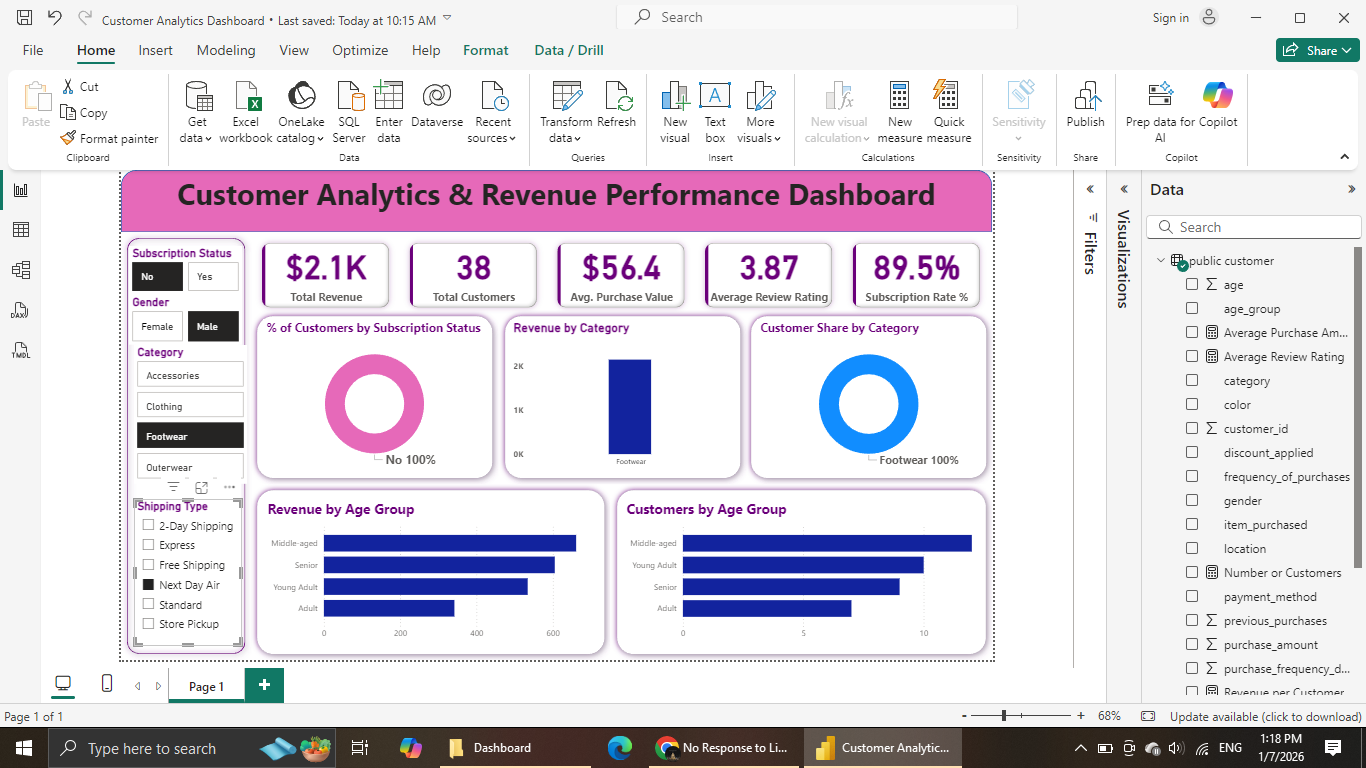

The dashboard page shown, as its layout file describes it:
{"tool":"powerbi","page":{"name":"Page 1","canvas":[1280,720],"ordinal":0},"visuals":[{"type":"cardVisual","fields":{"Data":["public customer.Total Revenue","public customer.Number or Customers","public customer.Average Purchase Amount","public customer.Average Review Rating","public customer.Subscription Rate %"]},"box":[191,91.1,1088.8,127.8],"z":0},{"type":"shape","box":[0,0,1280,91.3],"z":1000},{"type":"textbox","box":[0,0,1279.8,77.9],"z":2000},{"type":"shape","box":[191.6,205.1,363.8,256],"z":3000},{"type":"donutChart","title":"% of Customers by Subscription Status","fields":{"Y":["CountNonNull(public customer.customer_id)"],"Category":["public customer.subscription_status"]},"box":[208.7,218.9,327.7,226.3],"z":4000},{"type":"shape","box":[191.6,461.1,528.5,259],"z":5000},{"type":"shape","box":[916.2,205.1,363.8,256],"z":6000},{"type":"shape","box":[555.4,205.1,363.8,256],"z":7000},{"type":"shape","box":[720.1,461.1,559.9,259],"z":8000},{"type":"clusteredColumnChart","title":"Revenue by Category","fields":{"Y":["Sum(public customer.purchase_amount)"],"Category":["public customer.category"]},"box":[571.9,220.1,330.9,226.1],"z":9000},{"type":"donutChart","title":"Customer Share by Category","fields":{"Category":["public customer.category"],"Y":["public customer.Revenue per Customer"]},"box":[935,219.4,328.3,227],"z":10000},{"type":"shape","box":[0,91.3,191.6,628.8],"z":11000},{"type":"advancedSlicerVisual","fields":{"Values":["public customer.subscription_status"]},"box":[12,112.3,166.2,71.9],"z":12000},{"type":"advancedSlicerVisual","fields":{"Values":["public customer.gender"]},"box":[12,184.1,166.2,73.4],"z":13000},{"type":"advancedSlicerVisual","fields":{"Values":["public customer.category"]},"box":[19.1,257.1,166,204.2],"z":14000},{"type":"slicer","title":"Shipping Type","fields":{"Values":["public customer.shipping_type"]},"box":[19.5,483.6,158.7,215.6],"z":15000},{"type":"clusteredBarChart","title":"Revenue by Age Group","fields":{"Y":["Sum(public customer.purchase_amount)"],"Category":["public customer.age_group"]},"box":[209.6,483.6,495.5,215.6],"z":16000},{"type":"clusteredBarChart","title":"Customers by Age Group","fields":{"Y":["CountNonNull(public customer.customer_id)"],"Category":["public customer.age_group"]},"box":[737.6,483.4,524.6,216],"z":17000}]}

Visuals, with their boxes on the page's 1280x720 design canvas (x1, y1, x2, y2). These are canvas units, not pixel positions in the 1366x768 screenshot, which may show the page scaled, cropped or inside an application window:
cardVisual - public customer.Total Revenue x public customer.Number or Customers: bbox(191, 91, 1280, 219)
shape: bbox(0, 0, 1280, 91)
textbox: bbox(0, 0, 1280, 78)
shape: bbox(192, 205, 555, 461)
"% of Customers by Subscription Status" donutChart: bbox(209, 219, 536, 445)
shape: bbox(192, 461, 720, 720)
shape: bbox(916, 205, 1280, 461)
shape: bbox(555, 205, 919, 461)
shape: bbox(720, 461, 1280, 720)
"Revenue by Category" clusteredColumnChart: bbox(572, 220, 903, 446)
"Customer Share by Category" donutChart: bbox(935, 219, 1263, 446)
shape: bbox(0, 91, 192, 720)
advancedSlicerVisual - public customer.subscription_status: bbox(12, 112, 178, 184)
advancedSlicerVisual - public customer.gender: bbox(12, 184, 178, 258)
advancedSlicerVisual - public customer.category: bbox(19, 257, 185, 461)
"Shipping Type" slicer: bbox(20, 484, 178, 699)
"Revenue by Age Group" clusteredBarChart: bbox(210, 484, 705, 699)
"Customers by Age Group" clusteredBarChart: bbox(738, 483, 1262, 699)
